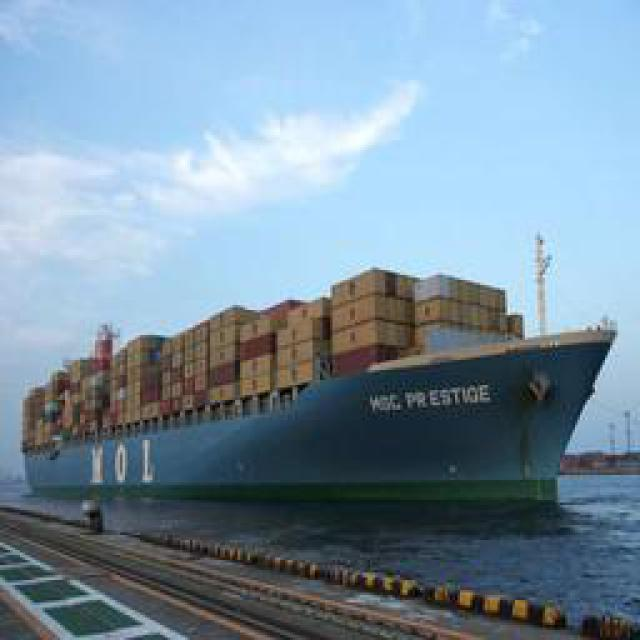Ship: (20, 311, 613, 514)
